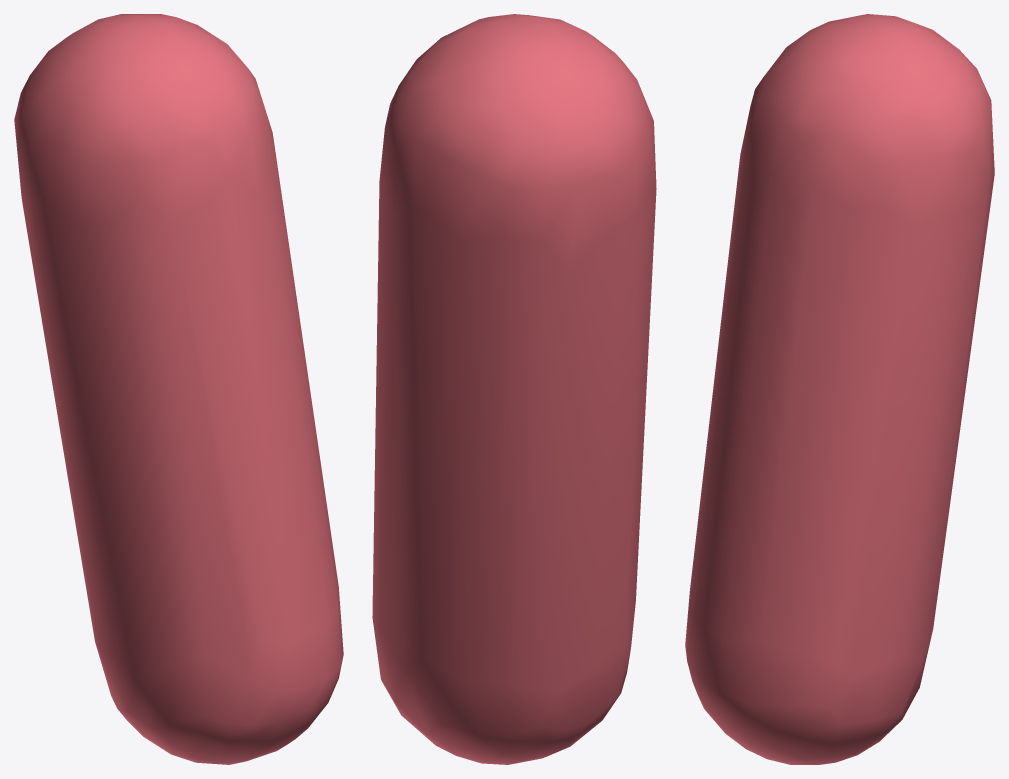
The model's file is fma66564_fj2252.glb.
The picture shows the model from 3 angles, left to right: view 1: azimuth 30°, elevation 25°; view 2: azimuth 150°, elevation 25°; view 3: azimuth 270°, elevation 25°; orthographic projection. The views are drawn at different scales.
Parts seen in each view (by area): view 1: FMA66564_FJ2252; view 2: FMA66564_FJ2252; view 3: FMA66564_FJ2252.
Boxes of the visible parts, bbox=[...] form: FMA66564_FJ2252: bbox=[14, 14, 343, 764]; FMA66564_FJ2252: bbox=[372, 14, 656, 764]; FMA66564_FJ2252: bbox=[685, 14, 994, 764].
Size of the model in its own units: 0.00486 by 0.0126 by 0.005.
